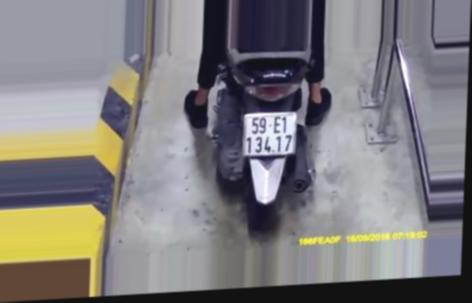License_Plate: (236, 107, 299, 159)
